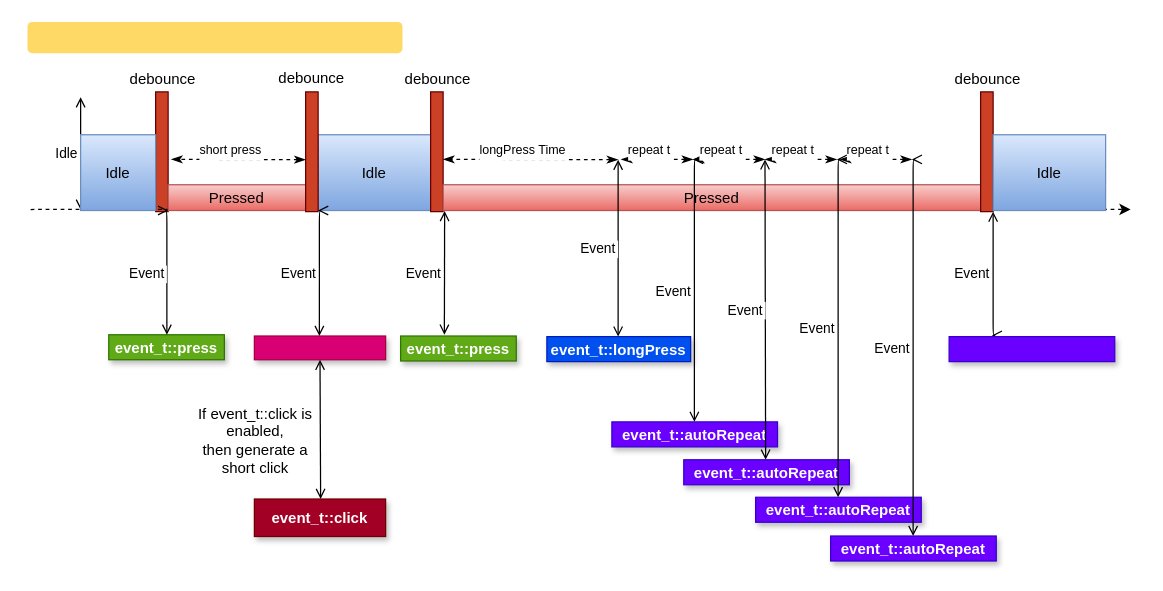
Some shapes in this 1163 by 591 pixel diagram are drawn without their labels. The shapes that lost their labels are listed below. From the top down, each one's centre as x and y in pixels, then its label:
the point at 214,36: AutoRepeat operation
the point at 320,349: event_t::release
the point at 1032,350: event_t::longRelease
